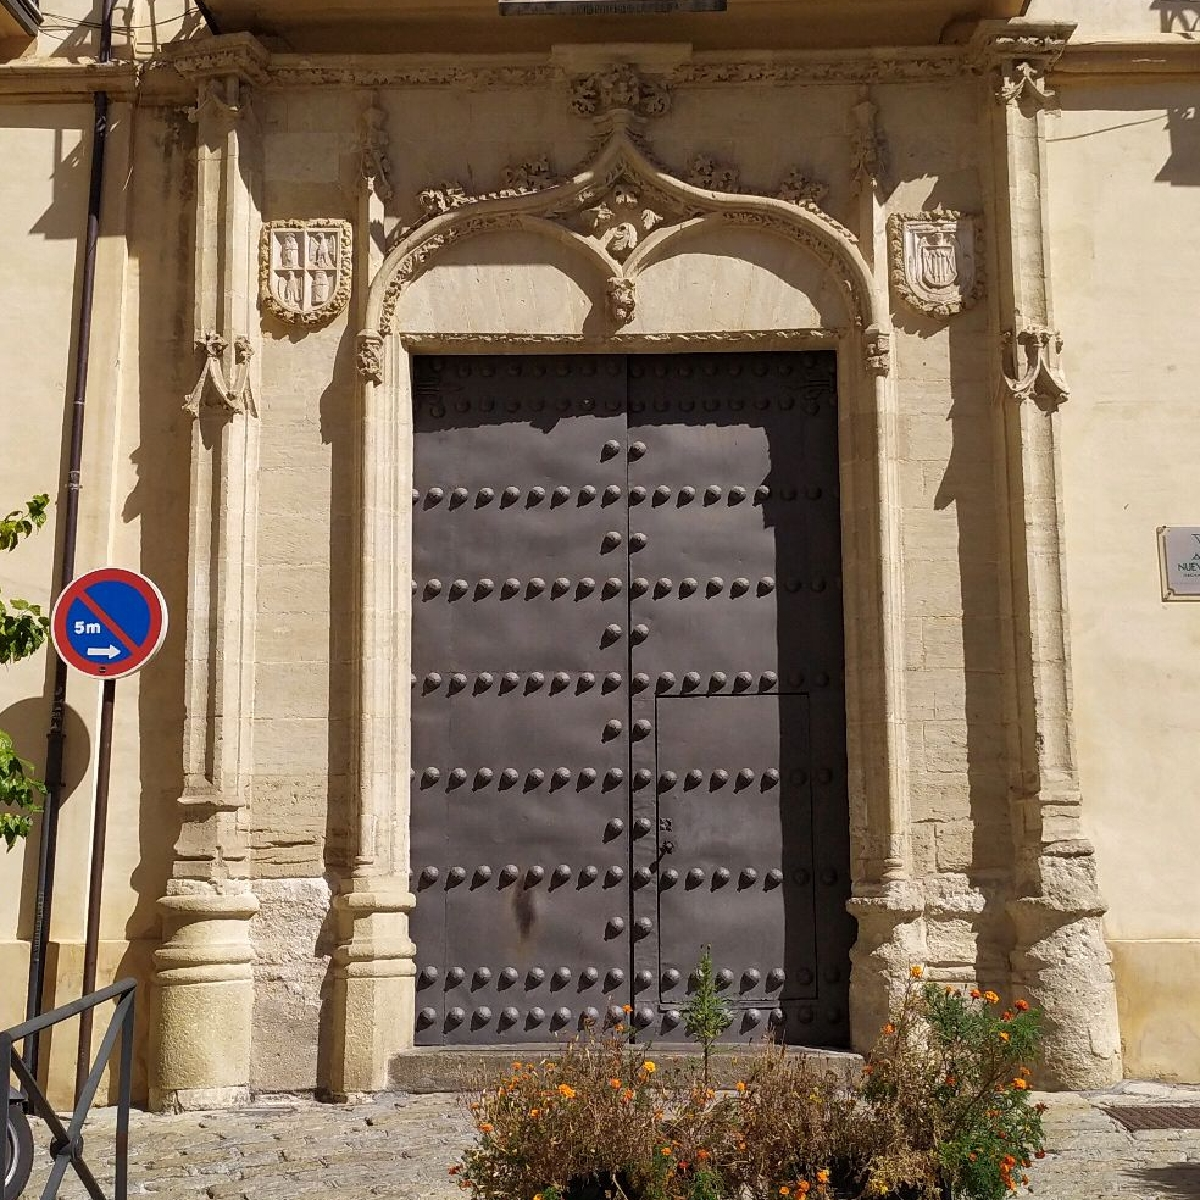arco-conopial: (373, 114, 880, 332)
